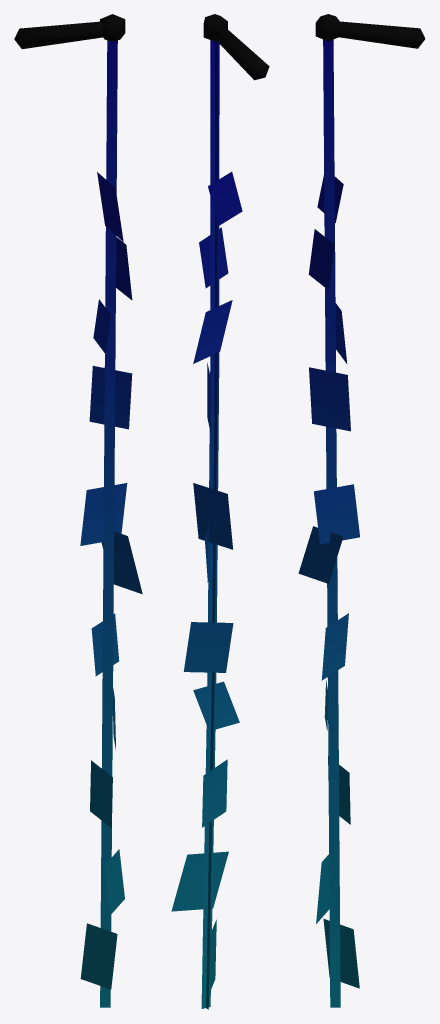
Rendered from SM_Pit_TagStrand_B.fbx.
The picture shows the model from 3 angles, left to right: view 1: azimuth 90°, elevation 25°; view 2: azimuth 210°, elevation 25°; view 3: azimuth 270°, elevation 25°; orthographic projection.
Parts seen in each view (by area): view 1: SM_Pit_TagStrand_B; view 2: SM_Pit_TagStrand_B; view 3: SM_Pit_TagStrand_B.
Boxes of the visible parts, x1,y1,x2,y2 form: SM_Pit_TagStrand_B: (14, 14, 142, 1007); SM_Pit_TagStrand_B: (171, 14, 269, 1009); SM_Pit_TagStrand_B: (298, 14, 425, 1007).
Bounding box in the file's own units: 0.0855 × 1.14 × 0.1334.
